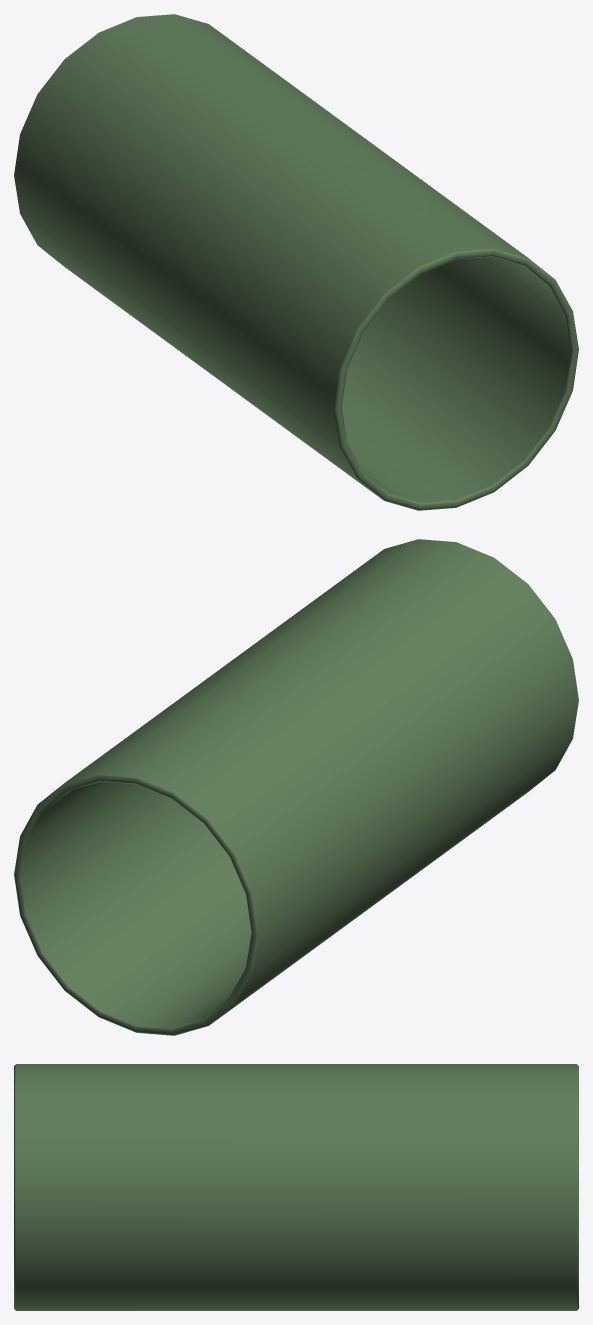
3 renders of one model, top to bottom at view 1: azimuth 30°, elevation 25°; view 2: azimuth 150°, elevation 25°; view 3: azimuth 270°, elevation 25°, orthographic. The views are drawn at different scales.
Visible parts, largest first — view 1: Tube; view 2: Tube; view 3: Tube.
Boxes of the visible parts, <box> form: Tube: <box>14,14,578,510</box>; Tube: <box>14,539,578,1035</box>; Tube: <box>14,1064,578,1310</box>.
Bounding box in the file's own units: 134 × 134 × 305.
